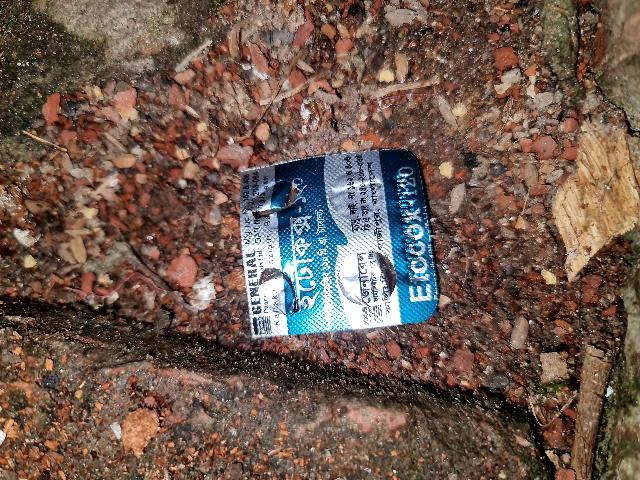medicine: (237, 146, 435, 342)
